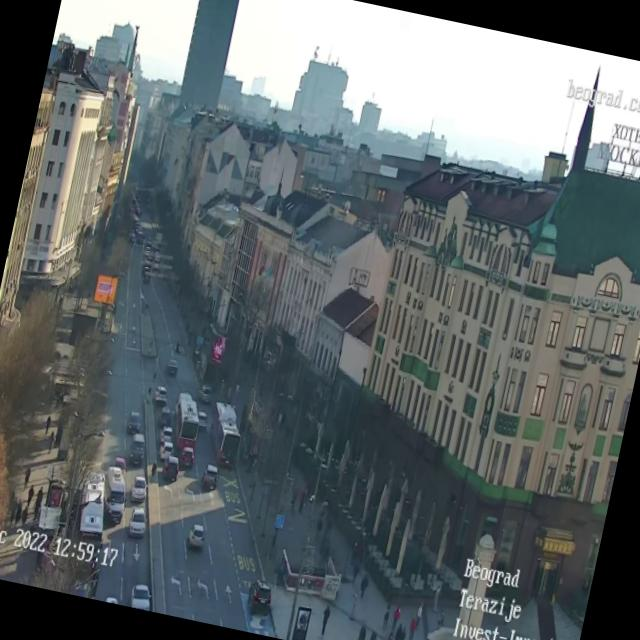bus: (62, 467, 120, 585), (203, 400, 246, 465), (168, 389, 204, 451)
car: (96, 468, 134, 520), (245, 574, 274, 617), (127, 430, 147, 465), (127, 507, 147, 538), (130, 472, 149, 504), (160, 455, 181, 482), (186, 522, 207, 548), (129, 584, 150, 610), (194, 406, 212, 434), (177, 448, 196, 472), (200, 461, 218, 486), (159, 439, 177, 462), (152, 386, 168, 408), (126, 408, 140, 430), (166, 356, 180, 376), (201, 381, 215, 400), (111, 456, 126, 472), (160, 423, 172, 442)
